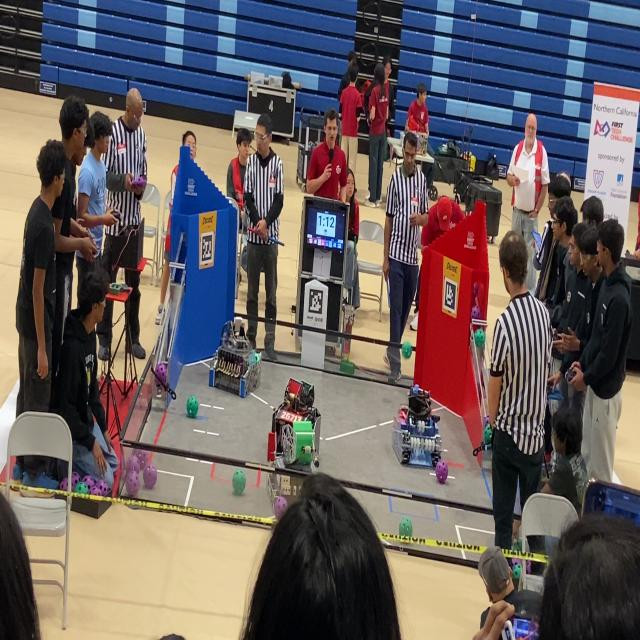artifact_green: (232, 469, 246, 495), (187, 396, 200, 419), (399, 518, 412, 537), (474, 328, 485, 349), (401, 342, 412, 358), (512, 563, 522, 580), (75, 482, 89, 494), (484, 425, 492, 444), (248, 351, 256, 366), (251, 351, 260, 364), (512, 539, 521, 551), (473, 282, 479, 299), (255, 352, 261, 362), (484, 416, 490, 426)
artifact_purple: (143, 464, 157, 489), (126, 472, 139, 498), (274, 496, 287, 520), (155, 362, 167, 385), (135, 450, 149, 469), (436, 461, 448, 483), (126, 455, 140, 473), (96, 480, 109, 496), (82, 475, 95, 491), (71, 472, 80, 490), (471, 305, 481, 320), (565, 369, 575, 382), (513, 563, 521, 579), (90, 484, 101, 495), (59, 478, 68, 491), (526, 561, 532, 575), (473, 283, 478, 298)
